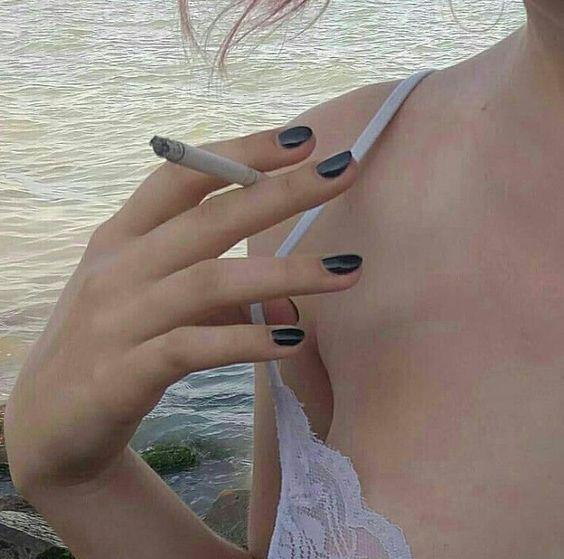cigarette: (148, 132, 273, 187)
